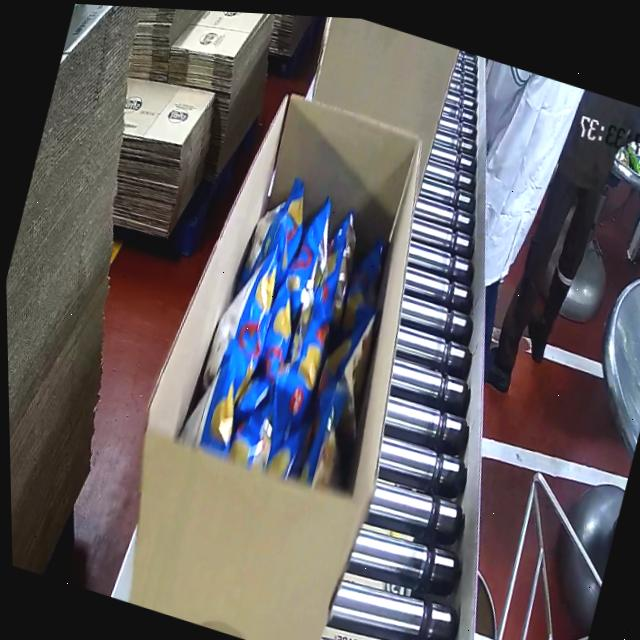PAPRIKA: (171, 170, 418, 498)
